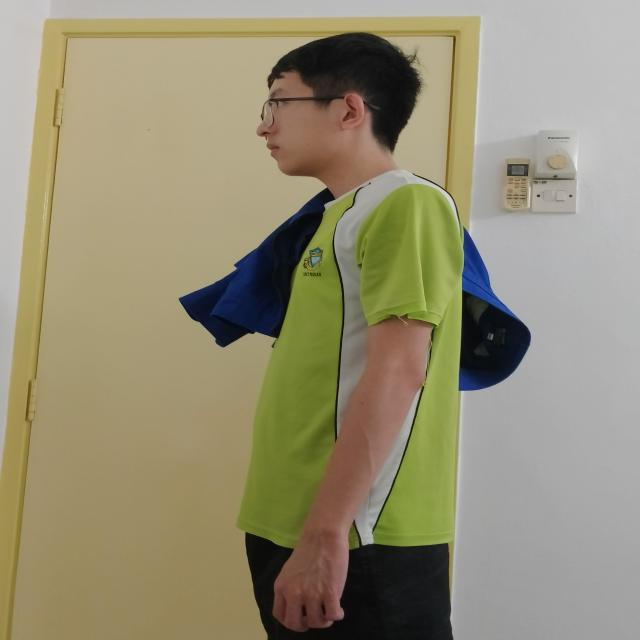person_without_labcoat: (179, 33, 530, 640)
